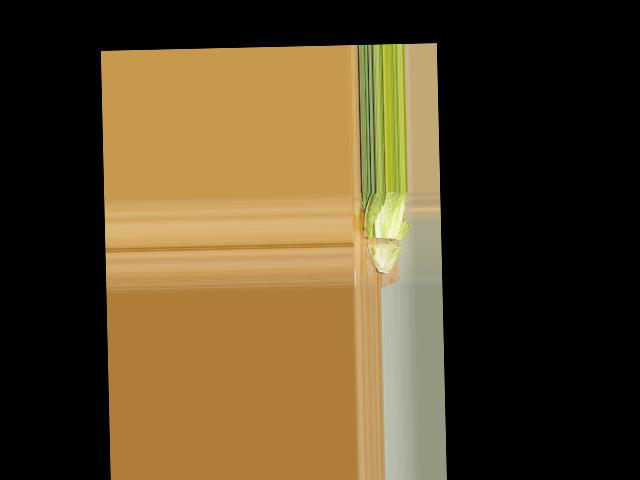lettuce: (357, 192, 410, 273)
